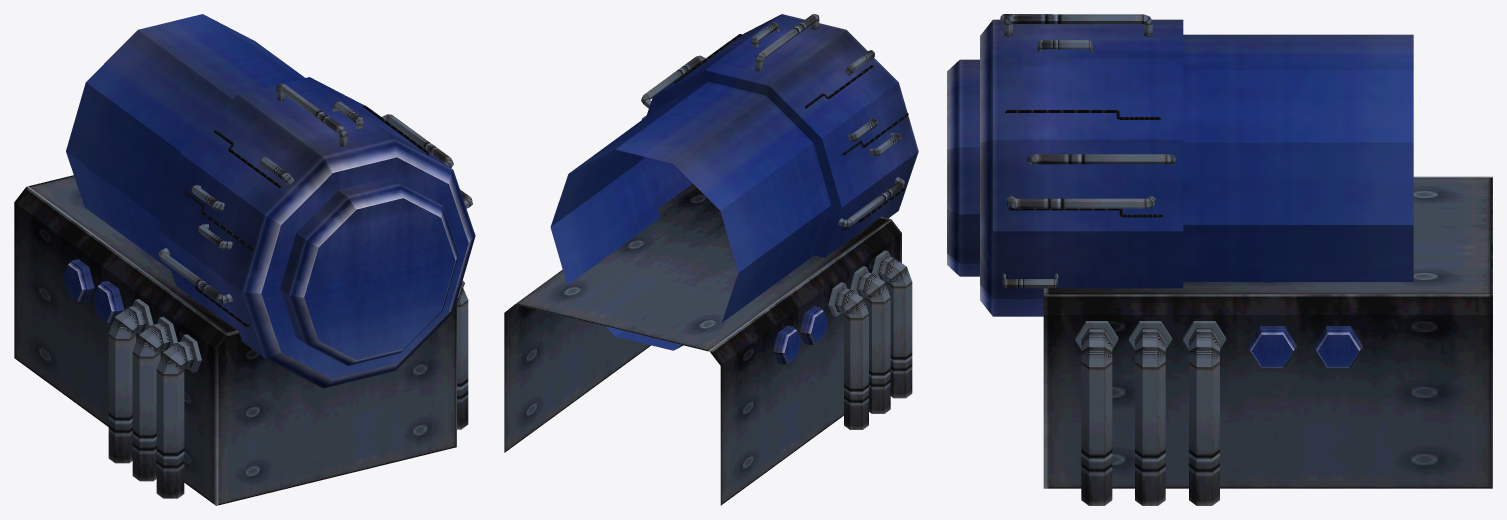
File: engine.fbx
3 views of the same model, side by side, from view 1: azimuth 30°, elevation 25°; view 2: azimuth 150°, elevation 25°; view 3: azimuth 270°, elevation 25° (orthographic). The views are drawn at different scales.
Parts seen in each view (by area): view 1: engine; view 2: engine; view 3: engine.
Part boxes in pixels (bbox=[...]): engine: bbox=[14, 14, 475, 505]; engine: bbox=[504, 14, 918, 505]; engine: bbox=[947, 14, 1492, 505].
Size of the model in its own units: 10.18 by 11.56 by 14.19.
